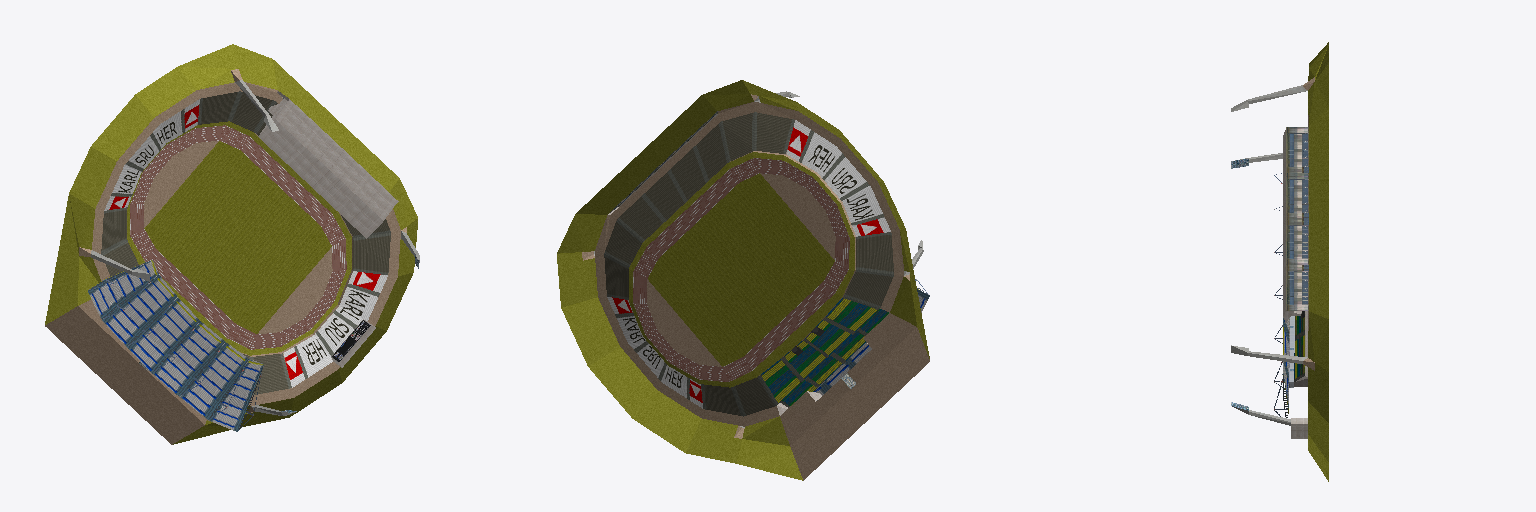
3 renders of one model, left to right at view 1: azimuth 30°, elevation 25°; view 2: azimuth 150°, elevation 25°; view 3: azimuth 270°, elevation 25°, orthographic.
Parts seen in each view (by area): view 1: DEU_609_KARLSRUHE_WILDPAR_S:DEU_609_KARLSRUHE_WILDPAR; view 2: DEU_609_KARLSRUHE_WILDPAR_S:DEU_609_KARLSRUHE_WILDPAR; view 3: DEU_609_KARLSRUHE_WILDPAR_S:DEU_609_KARLSRUHE_WILDPAR.
Part boxes in pixels (left/top/right/bottom): DEU_609_KARLSRUHE_WILDPAR_S:DEU_609_KARLSRUHE_WILDPAR: left=45, top=44, right=419, bottom=444; DEU_609_KARLSRUHE_WILDPAR_S:DEU_609_KARLSRUHE_WILDPAR: left=557, top=80, right=929, bottom=480; DEU_609_KARLSRUHE_WILDPAR_S:DEU_609_KARLSRUHE_WILDPAR: left=1231, top=42, right=1328, bottom=481.
Size of the model in its own units: 218 by 216 by 49.47.
1 materials, 1 textured.